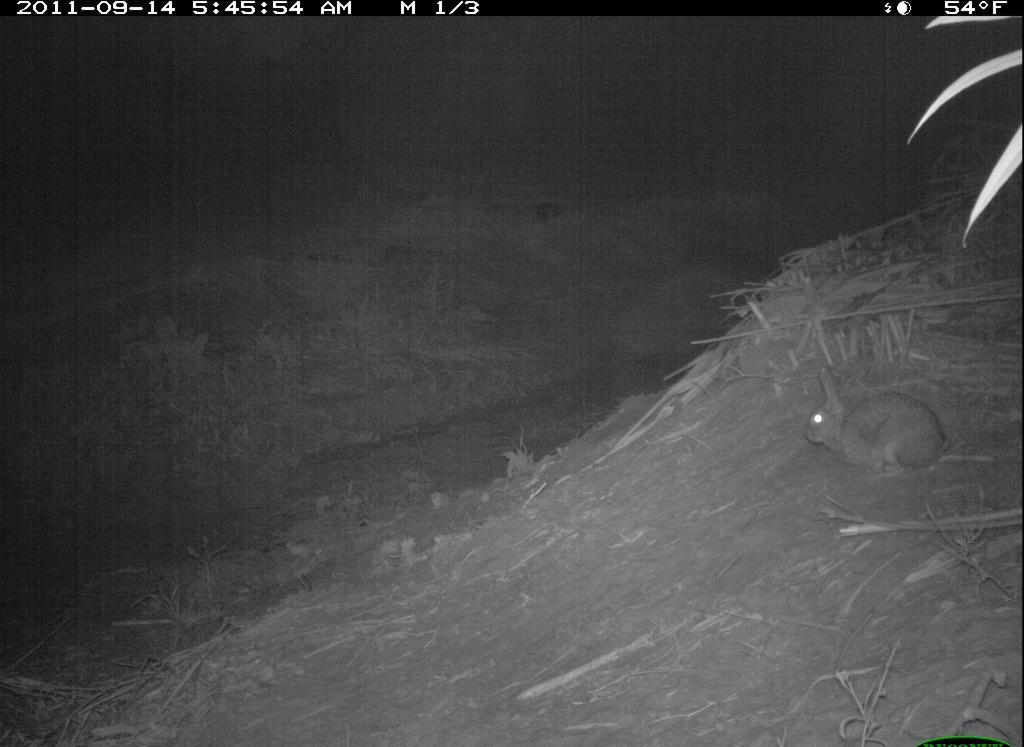rabbit: (801, 365, 952, 479)
